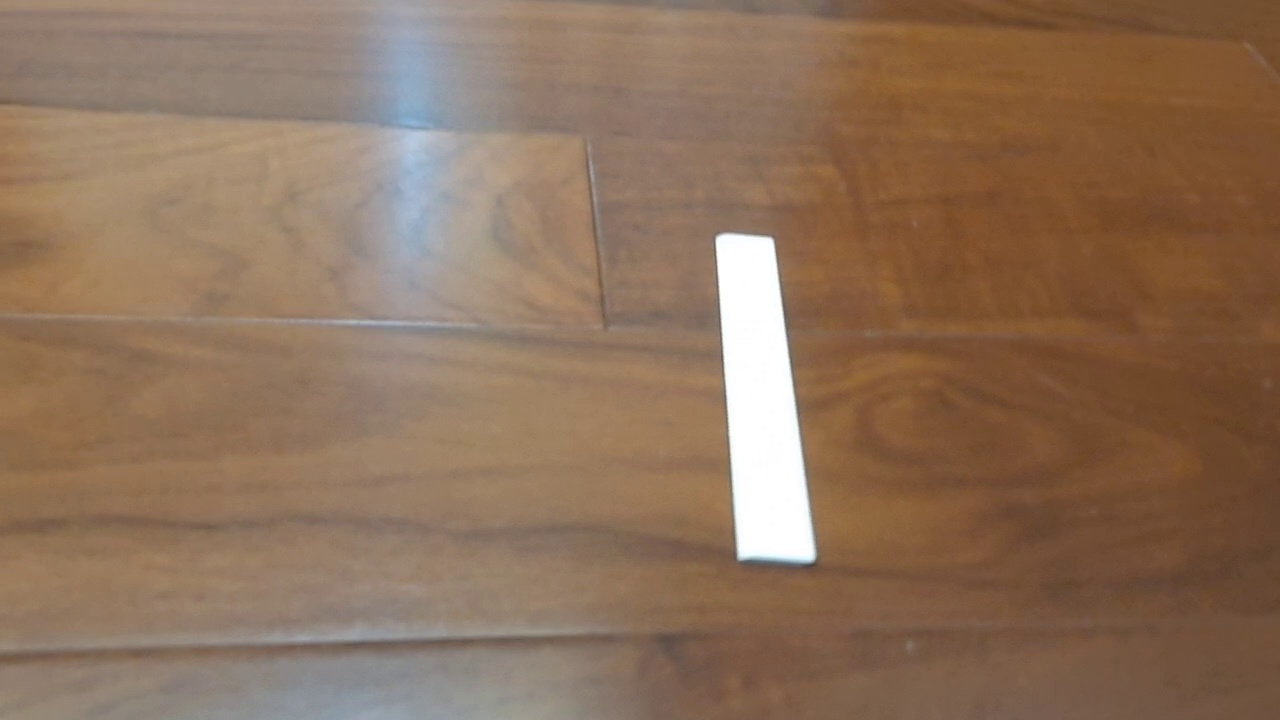ruler: (713, 230, 818, 569)
